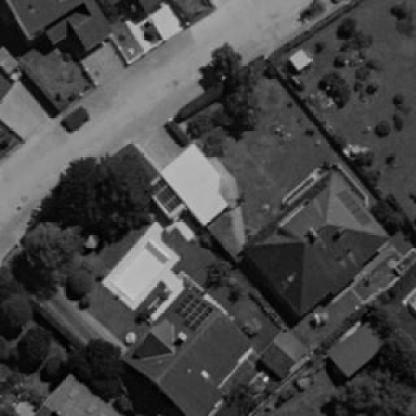solar-pv-panel: (175, 293, 214, 333), (336, 189, 373, 226)
